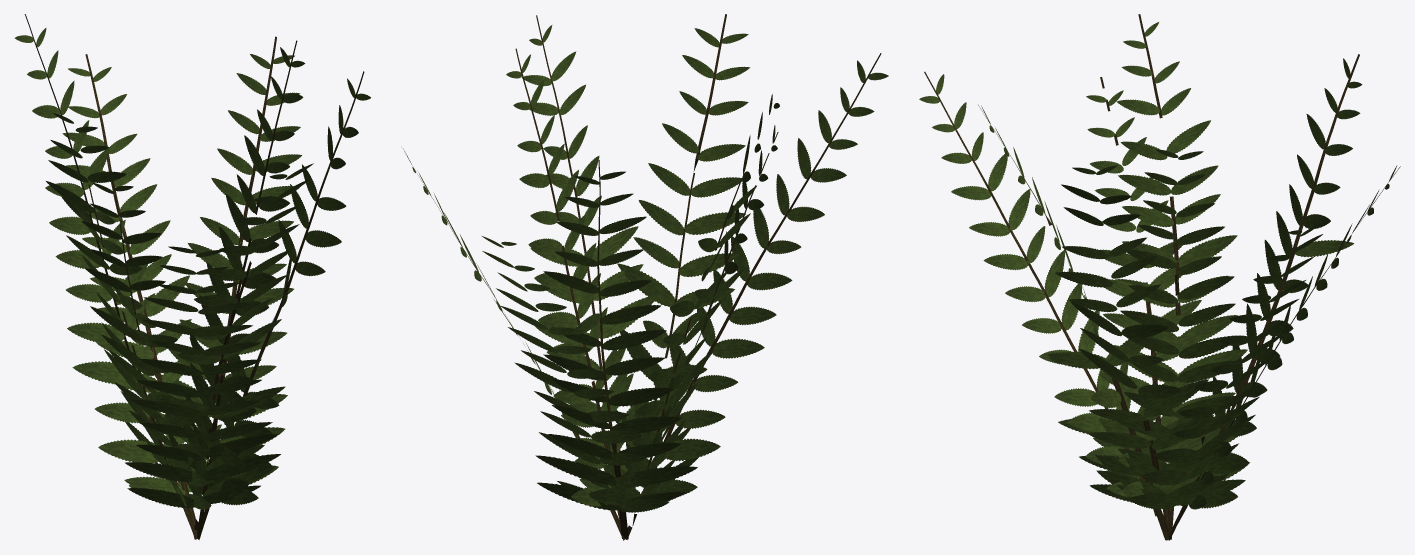
Rendered from royal_fern_v01_LOD1.fbx.
3 views of the same model, side by side, from view 1: azimuth 30°, elevation 25°; view 2: azimuth 150°, elevation 25°; view 3: azimuth 270°, elevation 25° (orthographic). The views are drawn at different scales.
Visible parts, largest first — view 1: royal_fern_v01_LOD1; view 2: royal_fern_v01_LOD1; view 3: royal_fern_v01_LOD1.
Part boxes in pixels (<box>): royal_fern_v01_LOD1: <box>15,14,370,539</box>; royal_fern_v01_LOD1: <box>403,14,888,540</box>; royal_fern_v01_LOD1: <box>919,14,1400,540</box>.
Size of the model in its own units: 72.18 by 106 by 101.
Materials: 2 (2 with a texture image).
